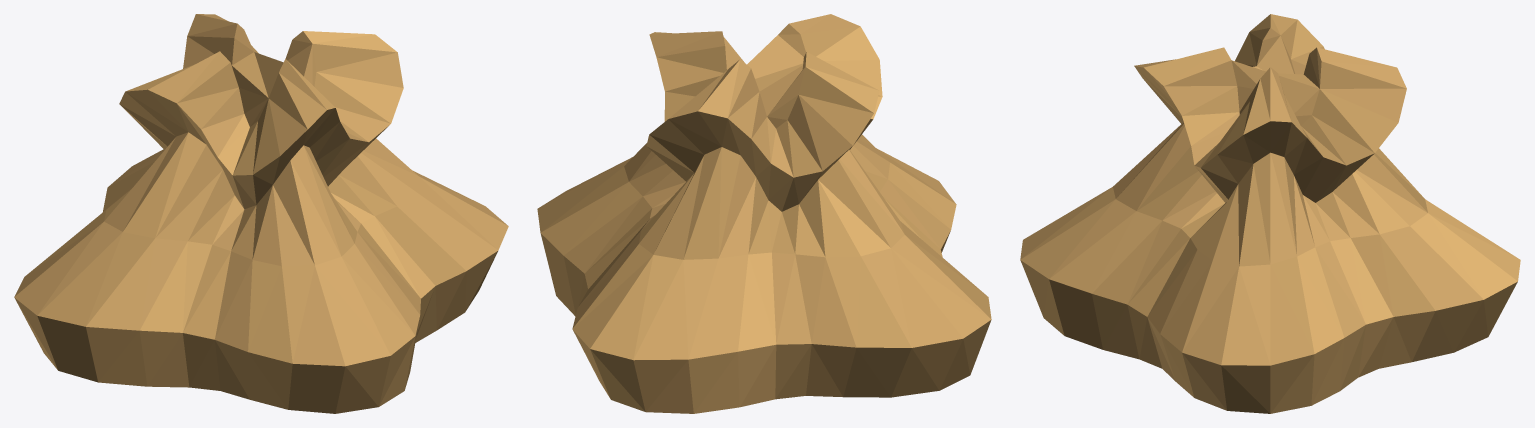
Rendered from ED_04_Four_Fold_Wonton.fbx.
3 views of the same model, side by side, from view 1: azimuth 30°, elevation 25°; view 2: azimuth 150°, elevation 25°; view 3: azimuth 270°, elevation 25° (orthographic). The views are drawn at different scales.
Parts seen in each view (by area): view 1: ED_04_Four_Fold_Wonton; view 2: ED_04_Four_Fold_Wonton; view 3: ED_04_Four_Fold_Wonton.
Boxes of the visible parts, left/top/right/bottom form: ED_04_Four_Fold_Wonton: left=14, top=14, right=508, bottom=413; ED_04_Four_Fold_Wonton: left=537, top=14, right=991, bottom=413; ED_04_Four_Fold_Wonton: left=1020, top=14, right=1520, bottom=413.
Size of the model in its own units: 0.8962 by 0.6 by 0.8962.
Materials: 1 (1 with a texture image).
